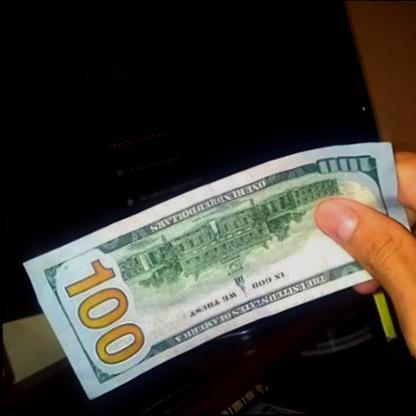one_hundred-back: (15, 127, 414, 414)
